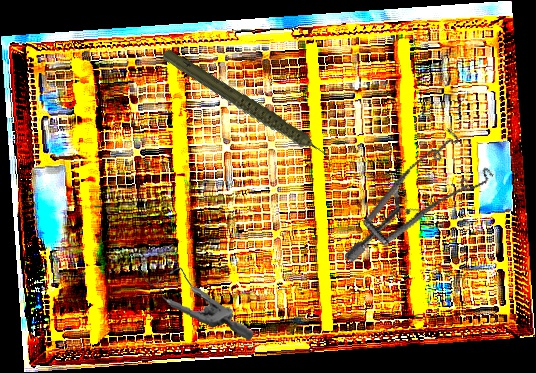Handpiece: (159, 18, 337, 200)
Speculum: (343, 109, 504, 301), (130, 240, 262, 342)
